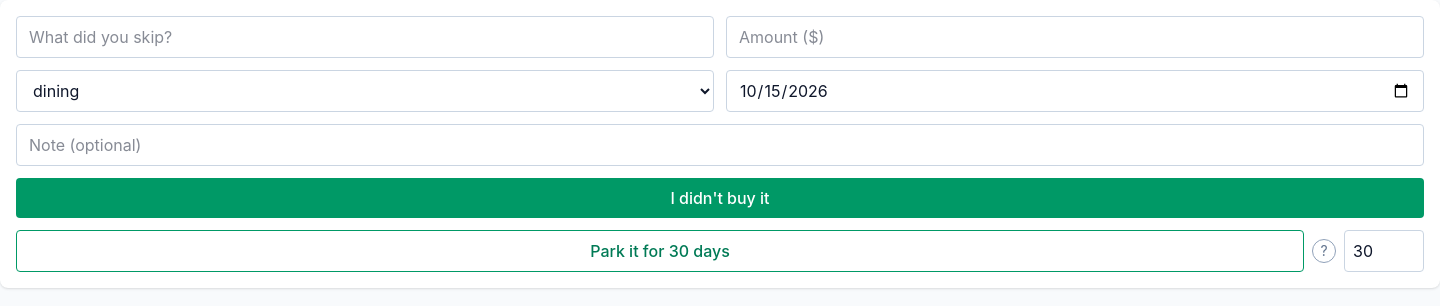
Test: EntryForm park help › is hidden until the question mark is clicked, then toggles
Click the button named "What does parking do?": (1324, 251) x1=1312 y1=239 x2=1336 y2=263
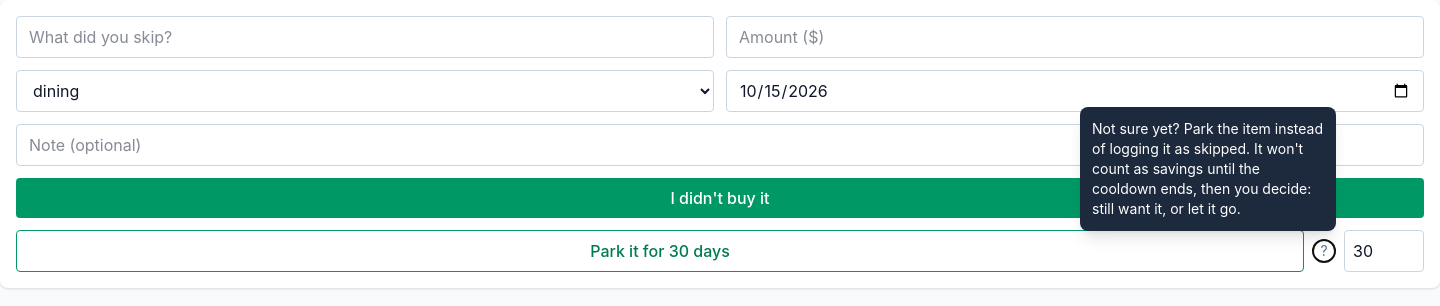
Result: the tooltip shows "won't count as savings until the cooldown ends" at x1=1092 y1=120 x2=1323 y2=217
Click the button named "What does parking do?": (1324, 251) x1=1312 y1=239 x2=1336 y2=263
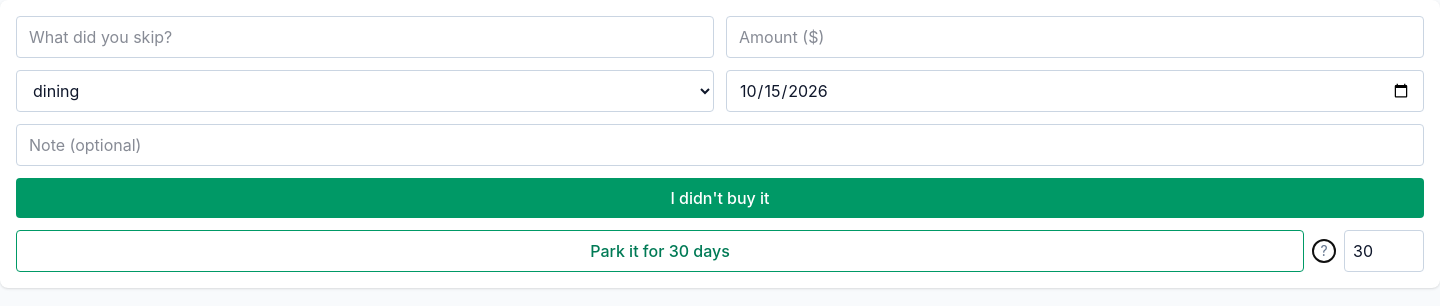
Result: the tooltip "Not sure yet? Park the item instead of logging it as skipped. It won't count as" is gone
